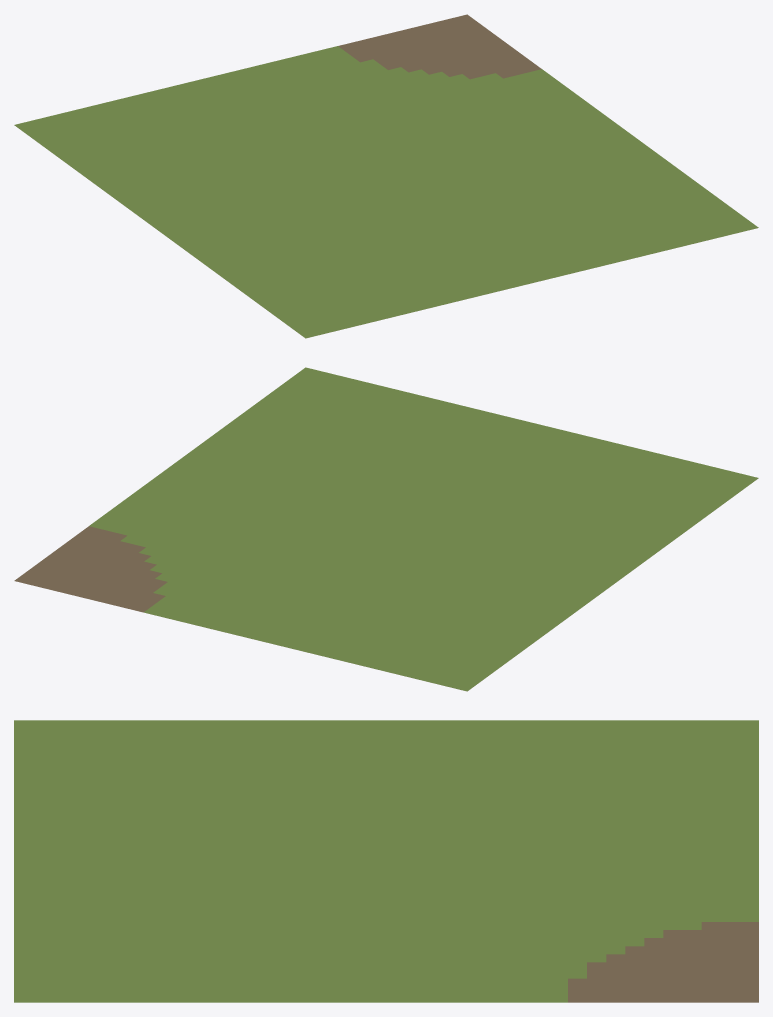
Rendered from region_-1_0.glb.
3 views of the same model, one above another, from view 1: azimuth 30°, elevation 25°; view 2: azimuth 150°, elevation 25°; view 3: azimuth 270°, elevation 25° (orthographic). The views are drawn at different scales.
Parts seen in each view (by area): view 1: OD_Meadow.002, OD_Ground.002; view 2: OD_Meadow.002, OD_Ground.002; view 3: OD_Meadow.002, OD_Ground.002.
Part boxes in pixels (x1,y1,x2,y2): OD_Meadow.002: (14,46,758,338); OD_Ground.002: (305,14,707,338); OD_Meadow.002: (89,367,758,691); OD_Ground.002: (14,526,467,691); OD_Meadow.002: (14,720,758,1002); OD_Ground.002: (568,922,758,1002).
Bounding box in the file's own units: 29.03 × 0.00518 × 32.35.
